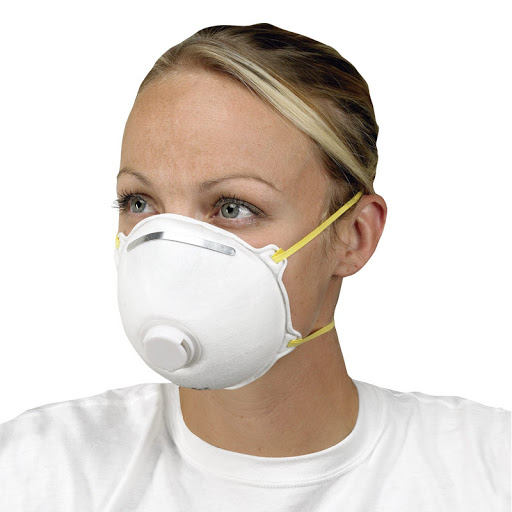n95: (100, 207, 302, 396)
